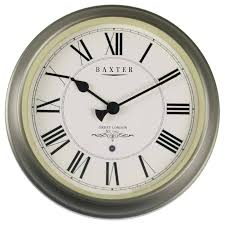alarm_clock: (2, 2, 217, 218), (7, 2, 217, 218), (7, 10, 217, 218)
